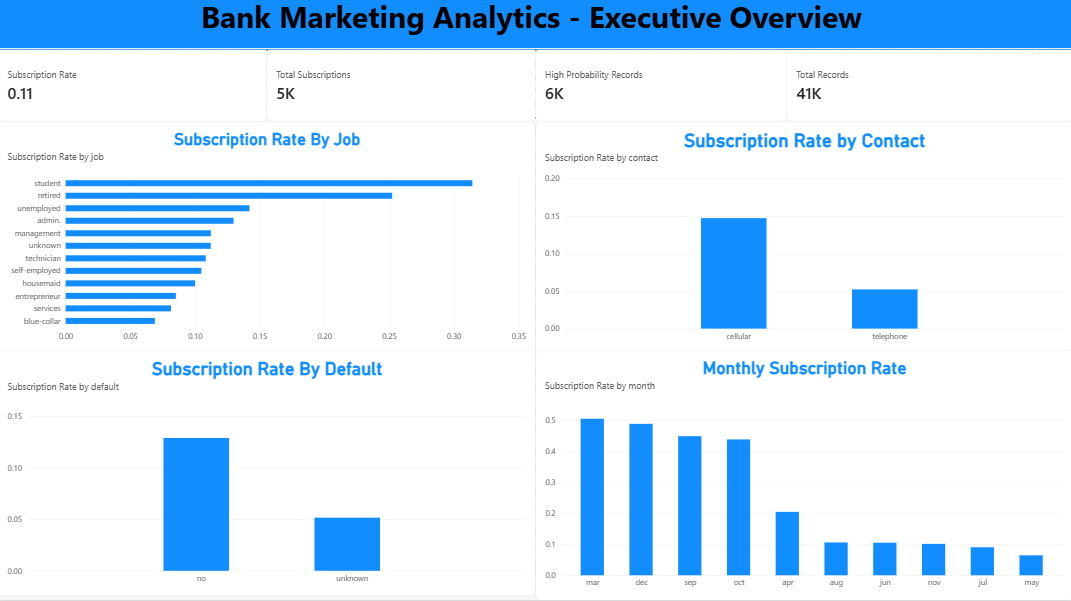

What the dashboard file says about the page in this screenshot:
{"tool":"powerbi","page":{"name":"Executive Overview","canvas":[1920,1080],"ordinal":0},"visuals":[{"type":"textbox","title":"Bank Marketing Analytics","box":[0,0,1920,96],"z":0},{"type":"cardVisual","fields":{"Data":["bank_marketing.Total Records"]},"box":[1408,96,512,128],"z":1000},{"type":"cardVisual","fields":{"Data":["bank_marketing.Total Subscriptions"]},"box":[480,96,480,128],"z":2000},{"type":"cardVisual","fields":{"Data":["bank_marketing.High Probability Records"]},"box":[960,96,448,128],"z":3000},{"type":"cardVisual","fields":{"Data":["bank_marketing.Subscription Rate"]},"box":[0,96,480,128],"z":4000},{"type":"clusteredBarChart","title":"Subscription Rate By Job","fields":{"Category":["bank_marketing.job"],"Y":["bank_marketing.Subscription Rate"]},"box":[0,224,960,416],"z":5000},{"type":"clusteredColumnChart","title":"Subscription Rate by Contact","fields":{"Category":["bank_marketing.contact"],"Y":["bank_marketing.Subscription Rate"]},"box":[960,224,960,416],"z":6000},{"type":"columnChart","title":"Monthly Subscription Rate","fields":{"Category":["bank_marketing.month"],"Y":["bank_marketing.Subscription Rate"]},"box":[960,632,960,448],"z":7000},{"type":"columnChart","title":"Subscription Rate By Default","fields":{"Y":["bank_marketing.Subscription Rate"],"Category":["bank_marketing.default"]},"box":[0,632,960,440],"z":8000}]}

Visuals, with their boxes in screenshot pixels (x1, y1, x2, y2), scaled from the page's 1920x1080 canvas onto the 1071x601 screenshot:
"Bank Marketing Analytics" textbox: select_region(0, 0, 1070, 53)
cardVisual - bank_marketing.Total Records: select_region(785, 53, 1070, 125)
cardVisual - bank_marketing.Total Subscriptions: select_region(268, 53, 536, 125)
cardVisual - bank_marketing.High Probability Records: select_region(536, 53, 785, 125)
cardVisual - bank_marketing.Subscription Rate: select_region(0, 53, 268, 125)
"Subscription Rate By Job" clusteredBarChart: select_region(0, 125, 536, 356)
"Subscription Rate by Contact" clusteredColumnChart: select_region(536, 125, 1070, 356)
"Monthly Subscription Rate" columnChart: select_region(536, 352, 1070, 600)
"Subscription Rate By Default" columnChart: select_region(0, 352, 536, 597)
